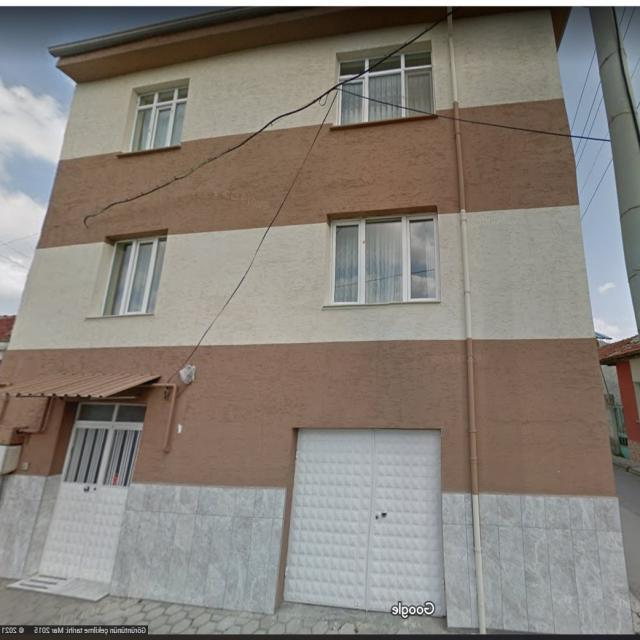Building: (0, 5, 636, 635)
